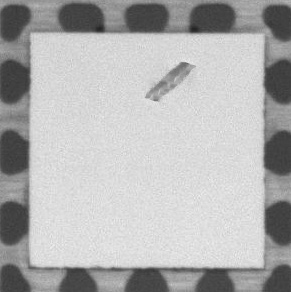DIE_INK: (139, 55, 198, 107)
